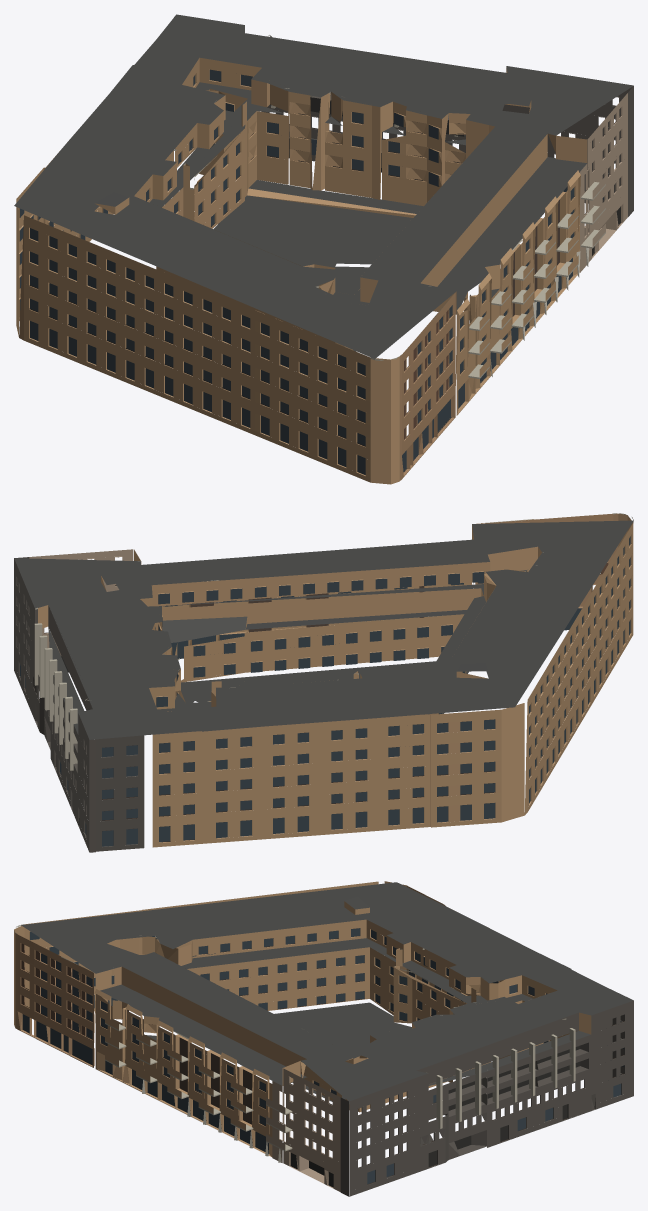
File: revaleiland-121.lod1.glb
The picture shows the model from 3 angles, top to bottom: view 1: azimuth 30°, elevation 25°; view 2: azimuth 150°, elevation 25°; view 3: azimuth 270°, elevation 25°; orthographic projection. The views are drawn at different scales.
Parts seen in each view (by area): view 1: revaleiland-121; view 2: revaleiland-121; view 3: revaleiland-121.
Boxes of the visible parts, box(x1,y1,x2,y2) form: revaleiland-121: box(14, 14, 633, 484); revaleiland-121: box(14, 513, 633, 852); revaleiland-121: box(14, 881, 633, 1196).
Size of the model in its own units: 82.74 by 17.84 by 98.5.
